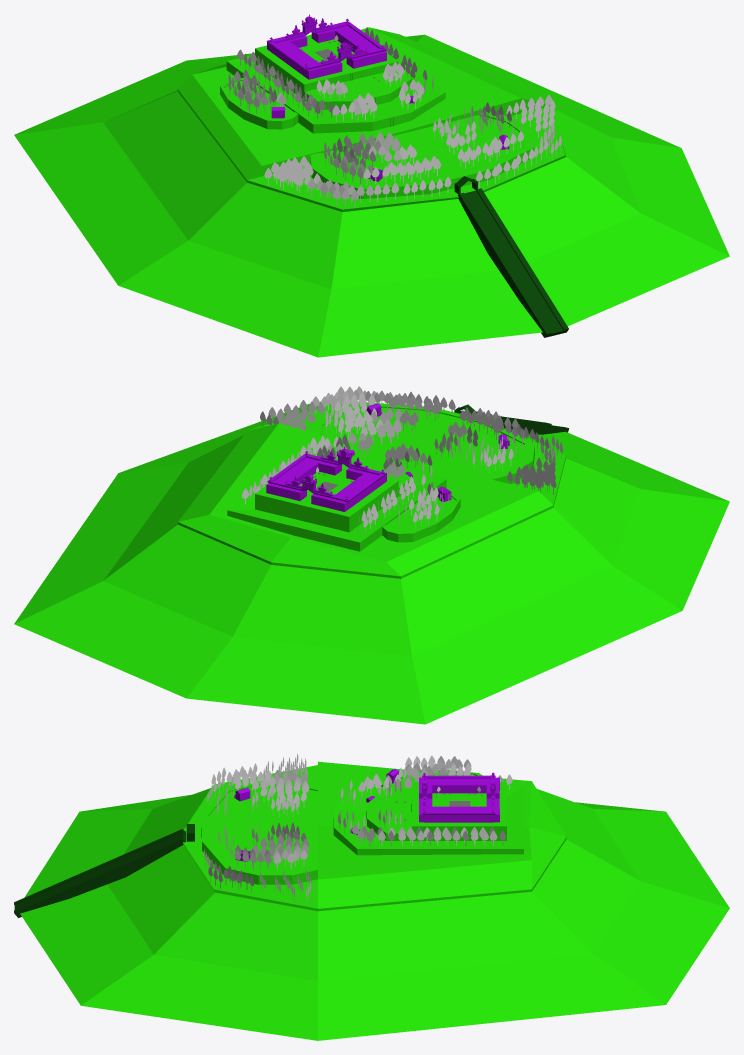
File: TesteTexturas_EscolaFora.fbx
The picture shows the model from 3 angles, top to bottom: view 1: azimuth 30°, elevation 25°; view 2: azimuth 150°, elevation 25°; view 3: azimuth 270°, elevation 25°; orthographic projection. The views are drawn at different scales.
Visible parts, largest first — view 1: TerrenoEscolaFora, AssetsMontanha, EscolaAssets; view 2: TerrenoEscolaFora, EscolaAssets, AssetsMontanha; view 3: TerrenoEscolaFora, AssetsMontanha, EscolaAssets.
Part boxes in pixels (box(x1,y1,x2,y2)): TerrenoEscolaFora: box(14, 27, 729, 357); AssetsMontanha: box(454, 176, 568, 337); EscolaAssets: box(267, 14, 509, 181); TerrenoEscolaFora: box(14, 401, 729, 724); EscolaAssets: box(266, 403, 509, 511); AssetsMontanha: box(454, 404, 568, 434); TerrenoEscolaFora: box(20, 761, 729, 1040); AssetsMontanha: box(14, 824, 194, 917); EscolaAssets: box(234, 769, 499, 861).
Size of the model in its own units: 46739 by 11147 by 53327.
